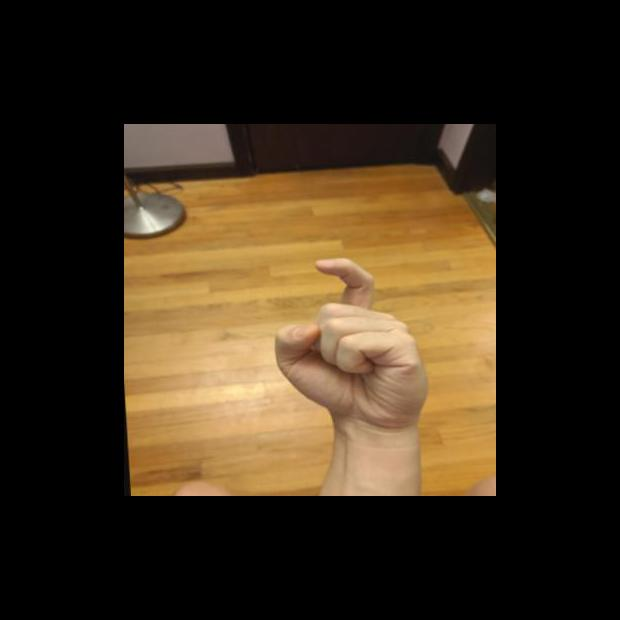W: (265, 248, 436, 437)
